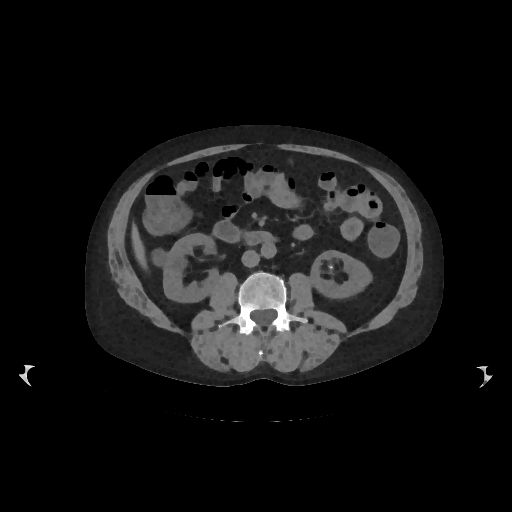Lesion: (322, 260, 339, 276)
